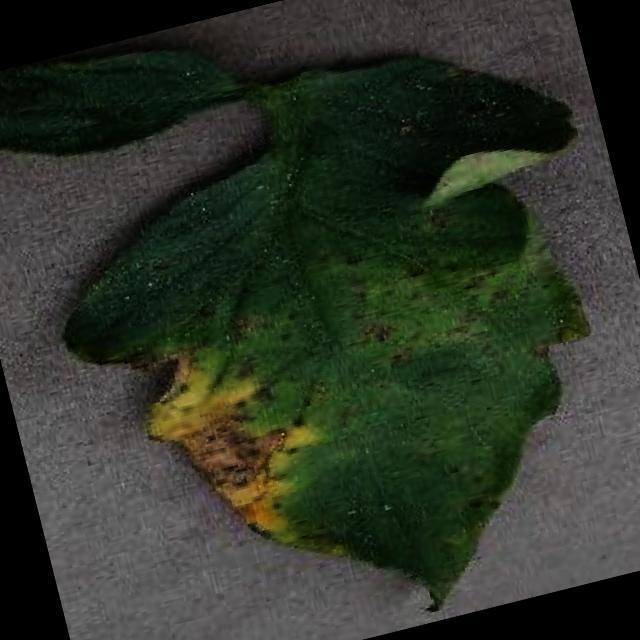Tomato bacterial spot leaf: (14, 14, 640, 640)
